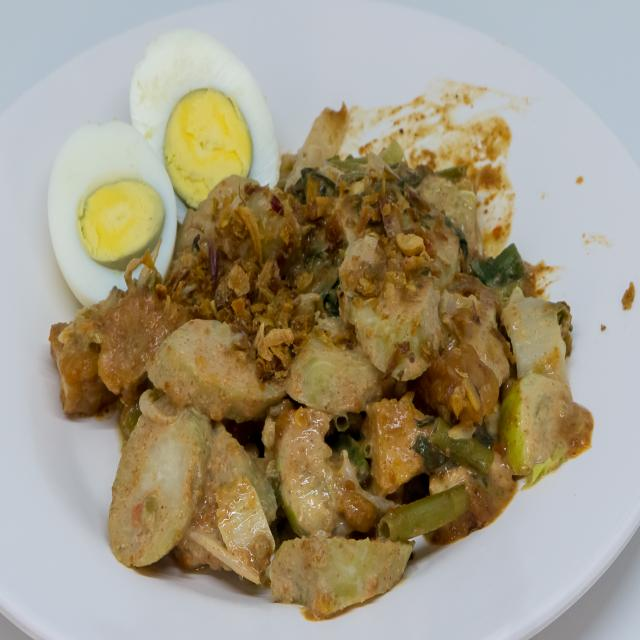Gado-Gado: (41, 13, 599, 628)
